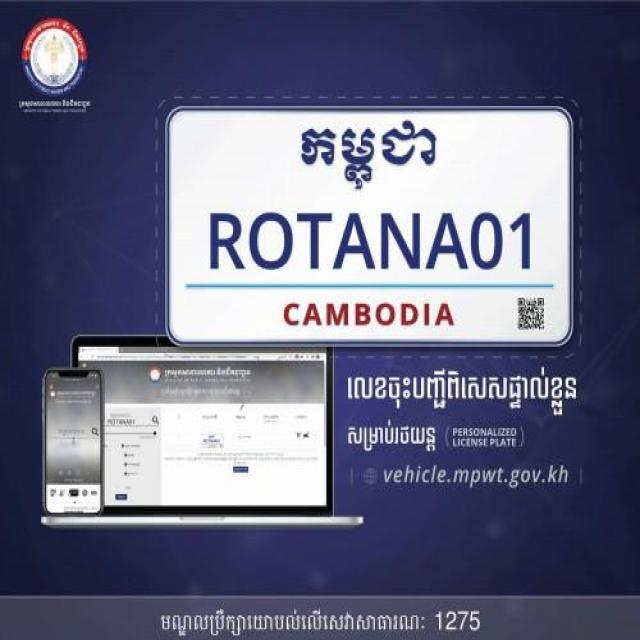Cambodia: (302, 118, 438, 193)
